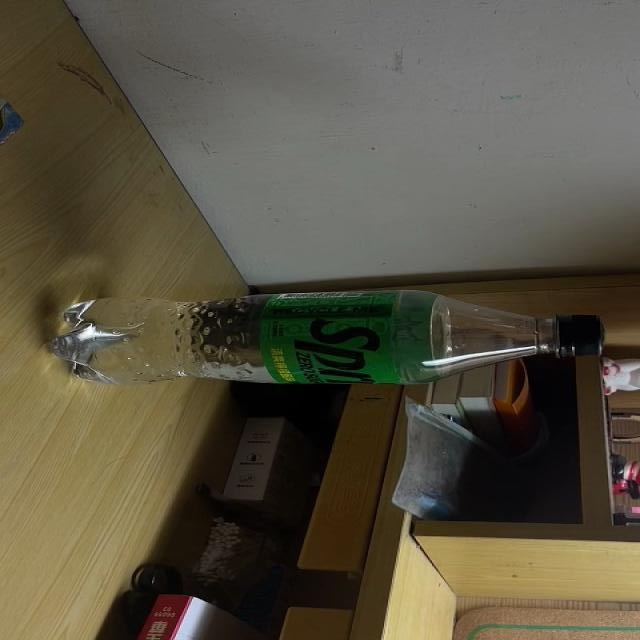Sprite: (44, 288, 606, 388)
